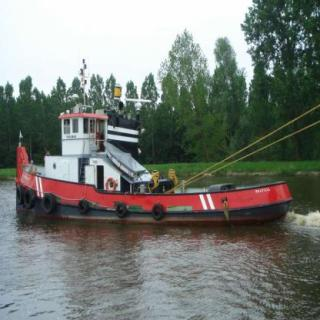Tug Boat: (14, 84, 290, 221)
